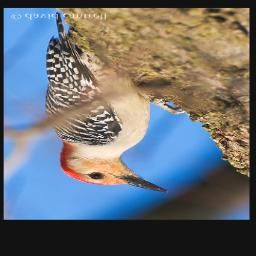Woodpecker: (45, 12, 169, 194)
